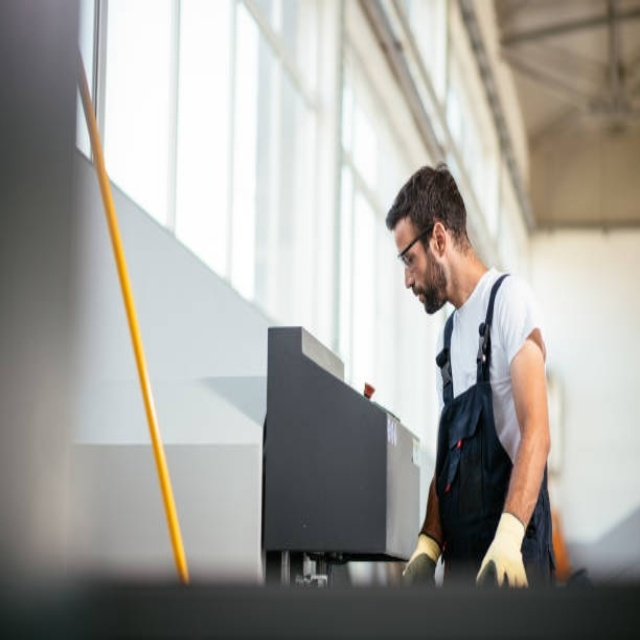Gafas: (397, 225, 435, 269)
Guantes: (475, 512, 528, 590), (402, 532, 442, 586)
Sin_mascara: (408, 281, 436, 311)
